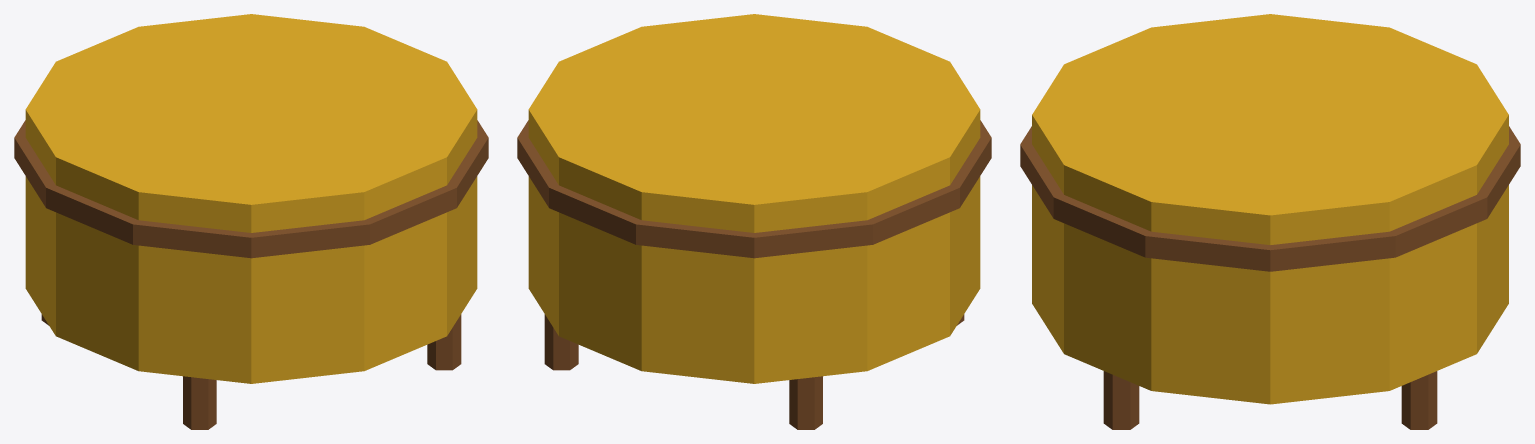
The model's file is ottoman.glb.
3 views of the same model, side by side, from view 1: azimuth 30°, elevation 25°; view 2: azimuth 150°, elevation 25°; view 3: azimuth 270°, elevation 25° (orthographic). The views are drawn at different scales.
Parts seen in each view (by area): view 1: ottoman; view 2: ottoman; view 3: ottoman.
Part boxes in pixels (x1,y1,x2,y2): ottoman: (14,14,488,429); ottoman: (517,14,991,429); ottoman: (1020,14,1520,429).
Size of the model in its own units: 0.84 by 0.455 by 0.84.
